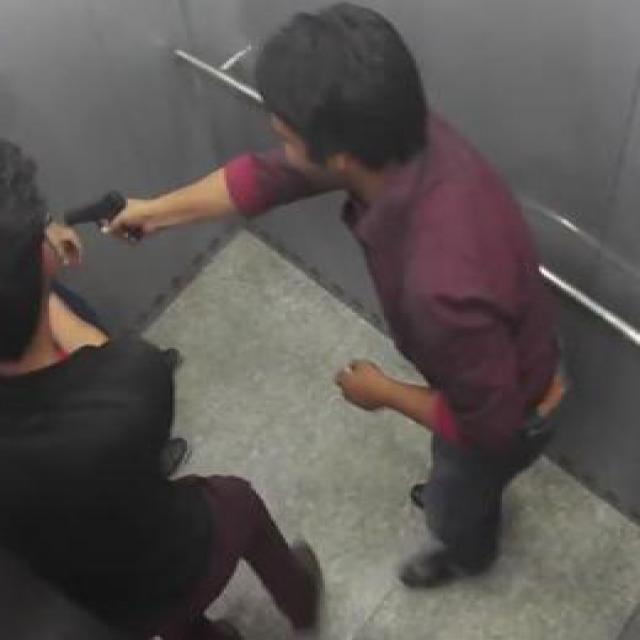Gun: (61, 188, 140, 244)
